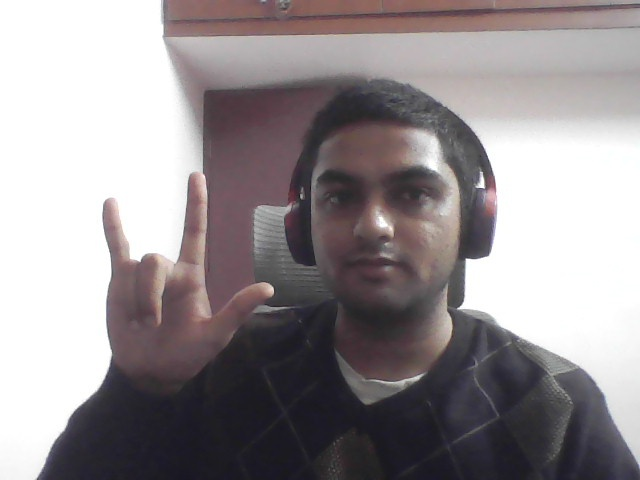I Love You: (81, 163, 279, 402)
